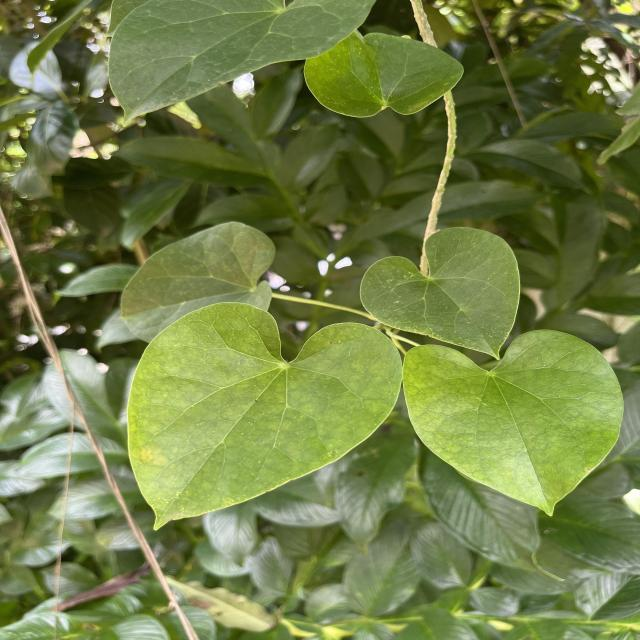Tinospora cordifolia: (124, 298, 404, 534), (399, 328, 627, 520), (356, 225, 524, 362)
